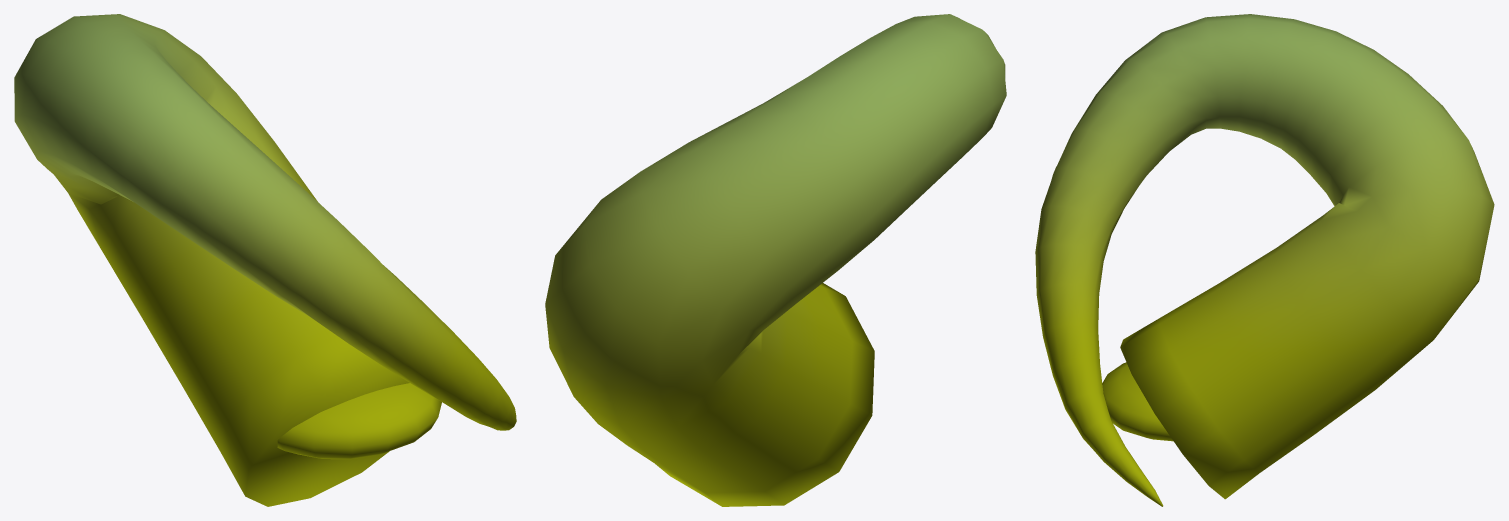
The model's file is GXR_HORNS_03_RAM_R.glb.
3 renders of one model, left to right at view 1: azimuth 30°, elevation 25°; view 2: azimuth 150°, elevation 25°; view 3: azimuth 270°, elevation 25°, orthographic. The views are drawn at different scales.
Parts seen in each view (by area): view 1: Mesh_Horn_R.002, Mesh_Keratin_Seat_R.002; view 2: Mesh_Horn_R.002; view 3: Mesh_Horn_R.002, Mesh_Keratin_Seat_R.002.
Boxes of the visible parts, <box> form: Mesh_Horn_R.002: <box>14,14,516,506</box>; Mesh_Keratin_Seat_R.002: <box>277,383,441,459</box>; Mesh_Horn_R.002: <box>545,14,1006,506</box>; Mesh_Horn_R.002: <box>1035,14,1494,506</box>; Mesh_Keratin_Seat_R.002: <box>1102,362,1173,441</box>.
Size of the model in its own units: 0.2329 by 0.2665 by 0.277.
